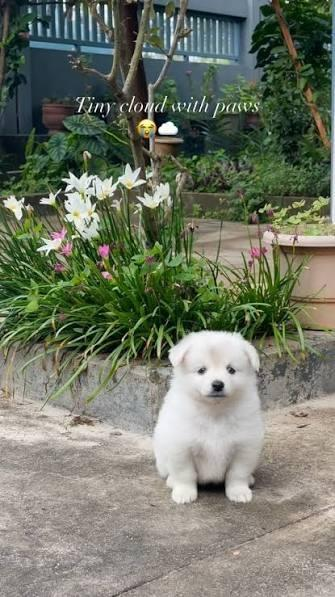puppy-dog: (152, 328, 265, 505)
